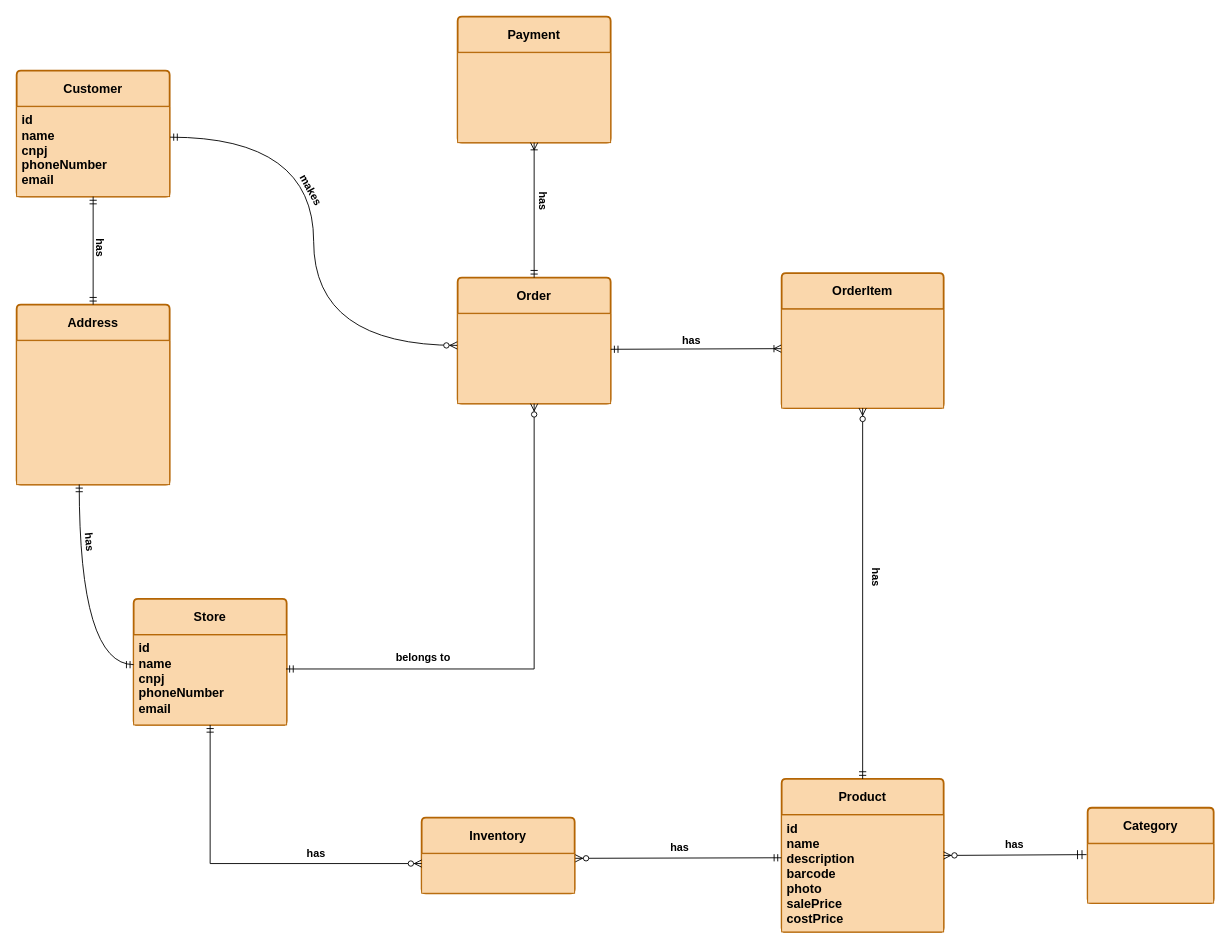
This 1229x948 diagram has some shape labels left out. The centre of each missing label's shape, as x and y in pixels:
id date method amount: the point at 534,97
id name: the point at 1150,873
id salePrice quantity: the point at 862,358
id status date totalAmount: the point at 534,358
id street neighbourhood complement number city state zip: the point at 93,412
quantity: the point at 498,873
